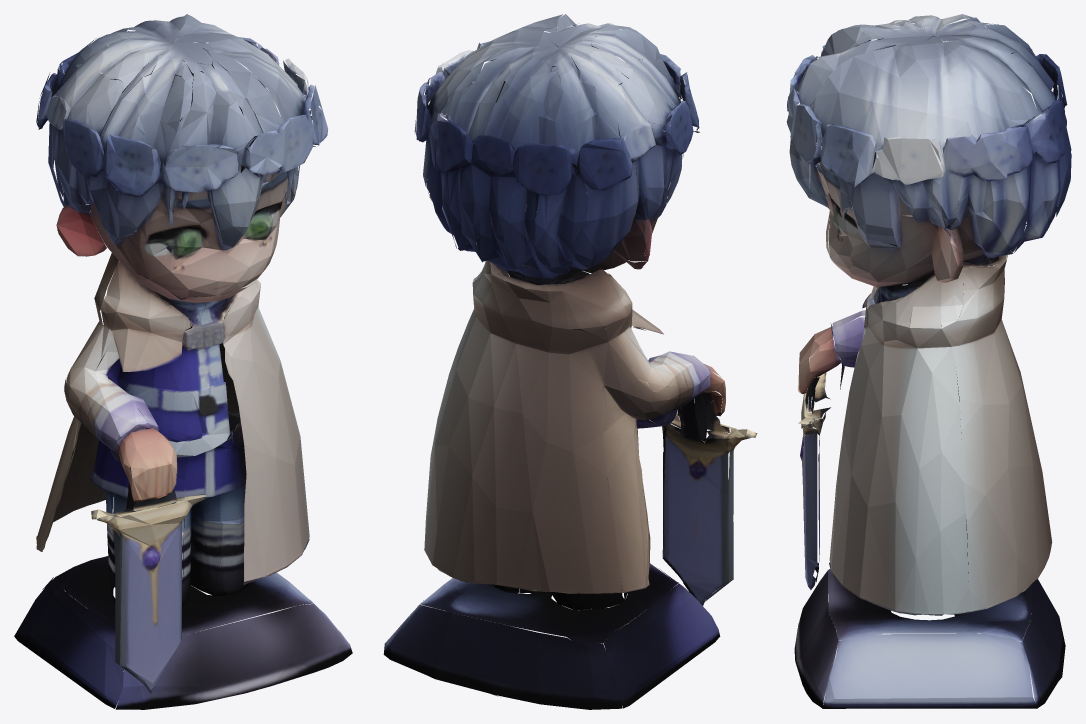
File: chibi-knight.glb
3 views of the same model, side by side, from view 1: azimuth 30°, elevation 25°; view 2: azimuth 150°, elevation 25°; view 3: azimuth 270°, elevation 25° (orthographic).
Visible parts, largest first — view 1: ChibiKnight; view 2: ChibiKnight; view 3: ChibiKnight.
Part boxes in pixels (<box>): ChibiKnight: <box>14,14,352,709</box>; ChibiKnight: <box>383,14,757,709</box>; ChibiKnight: <box>786,14,1071,708</box>.
Size of the model in its own units: 0.826 by 1.8 by 0.7561.
Materials: 1 (1 with a texture image).
